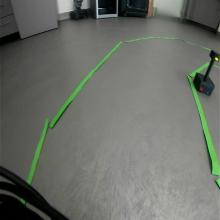green: (209, 49, 220, 62)
